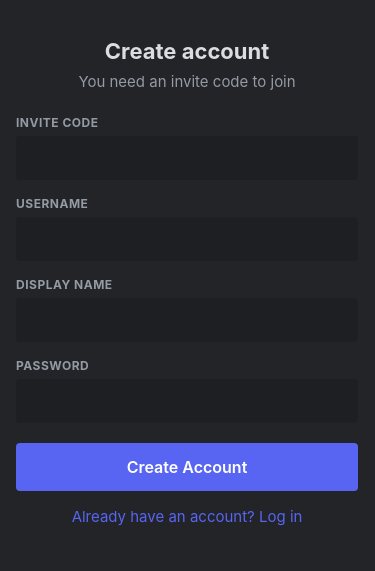
Scenario: RegisterScreen › shows error on registration failure
Step 1. Click the text "Create Account" → {"x": 187, "y": 467}, box [127, 457, 247, 477]
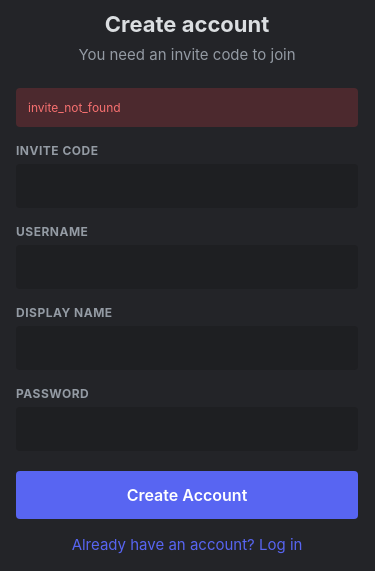
Now the text "invite_not_found" is shown, box [16, 88, 358, 126]
